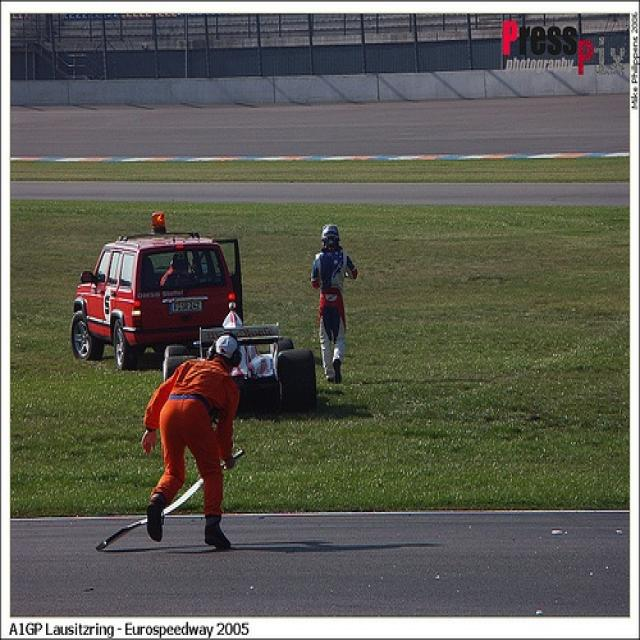car: (70, 211, 242, 366), (162, 312, 318, 409)
